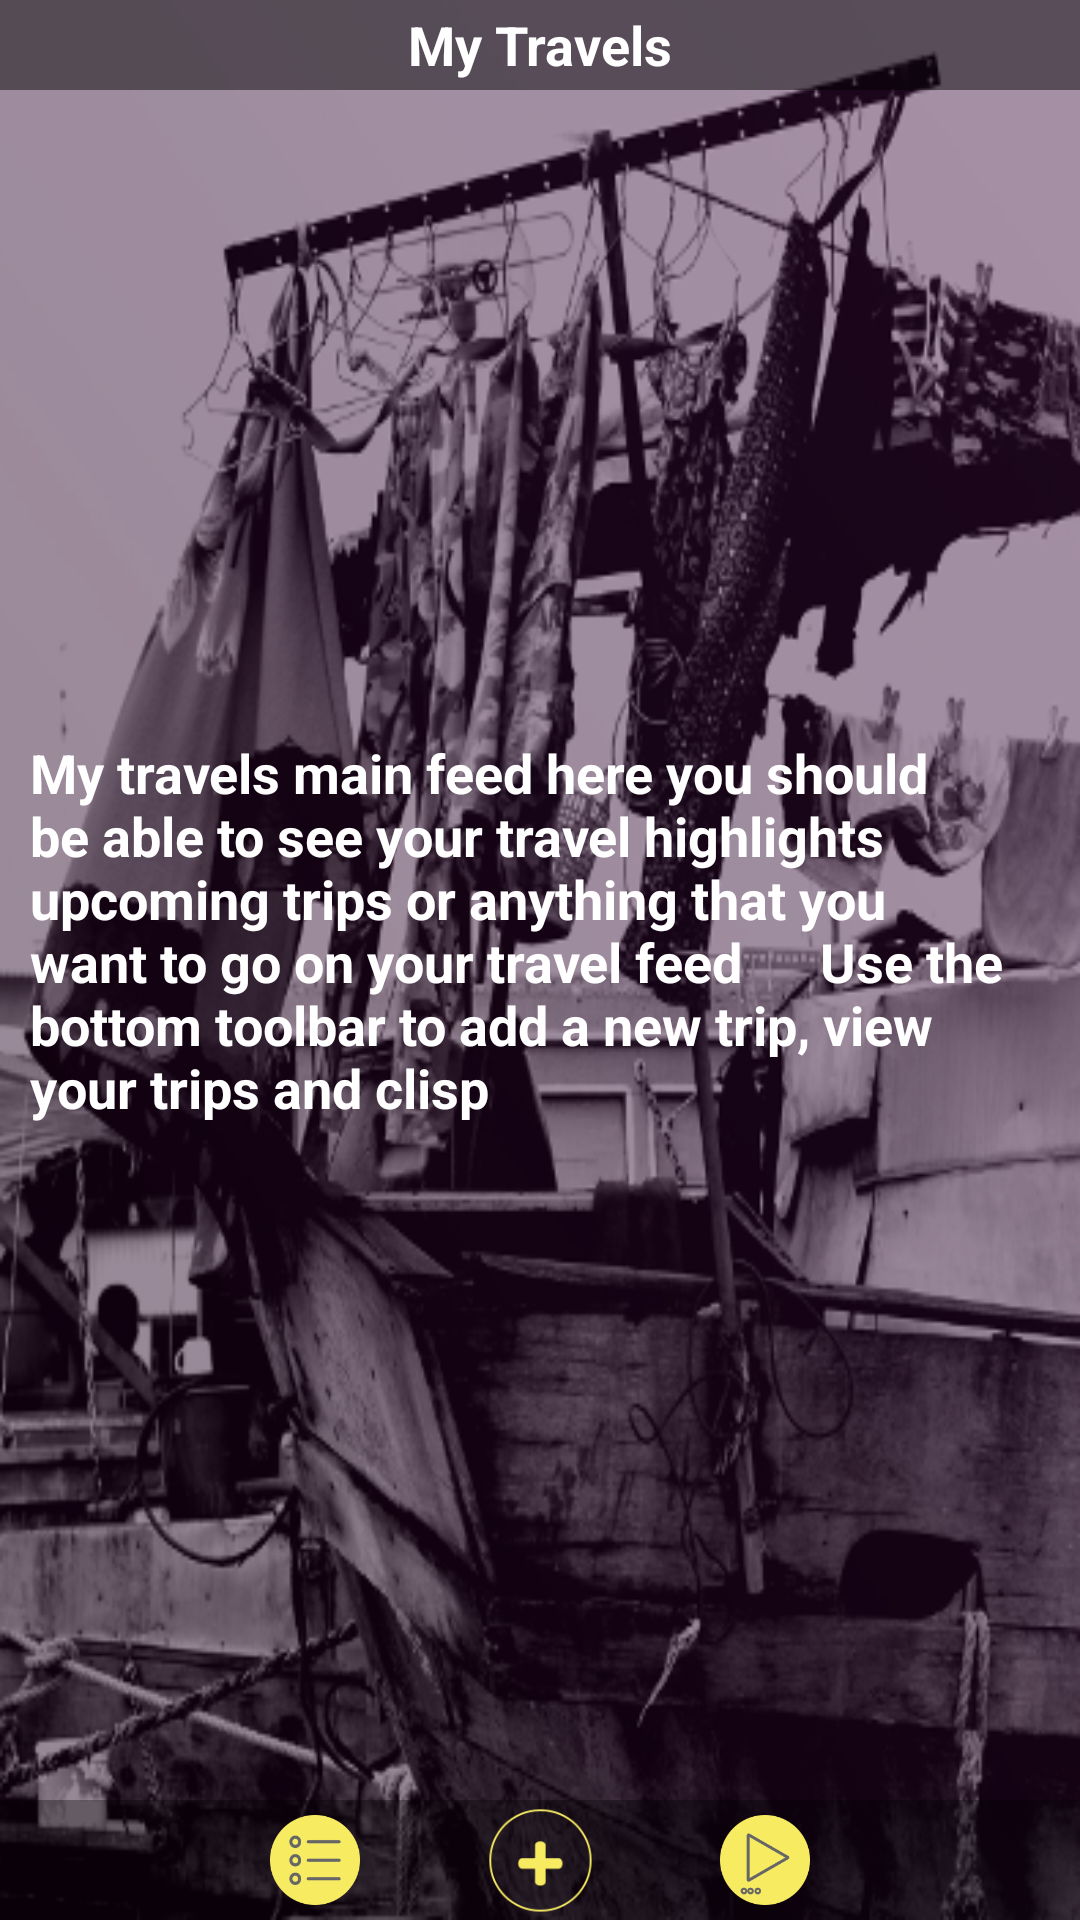

Icon bounding boxes for this 1080*1920 phone screenshot, format (x1, y1, x2, y2):
add event: (489, 1809, 592, 1912)
clips: (720, 1815, 810, 1905)
